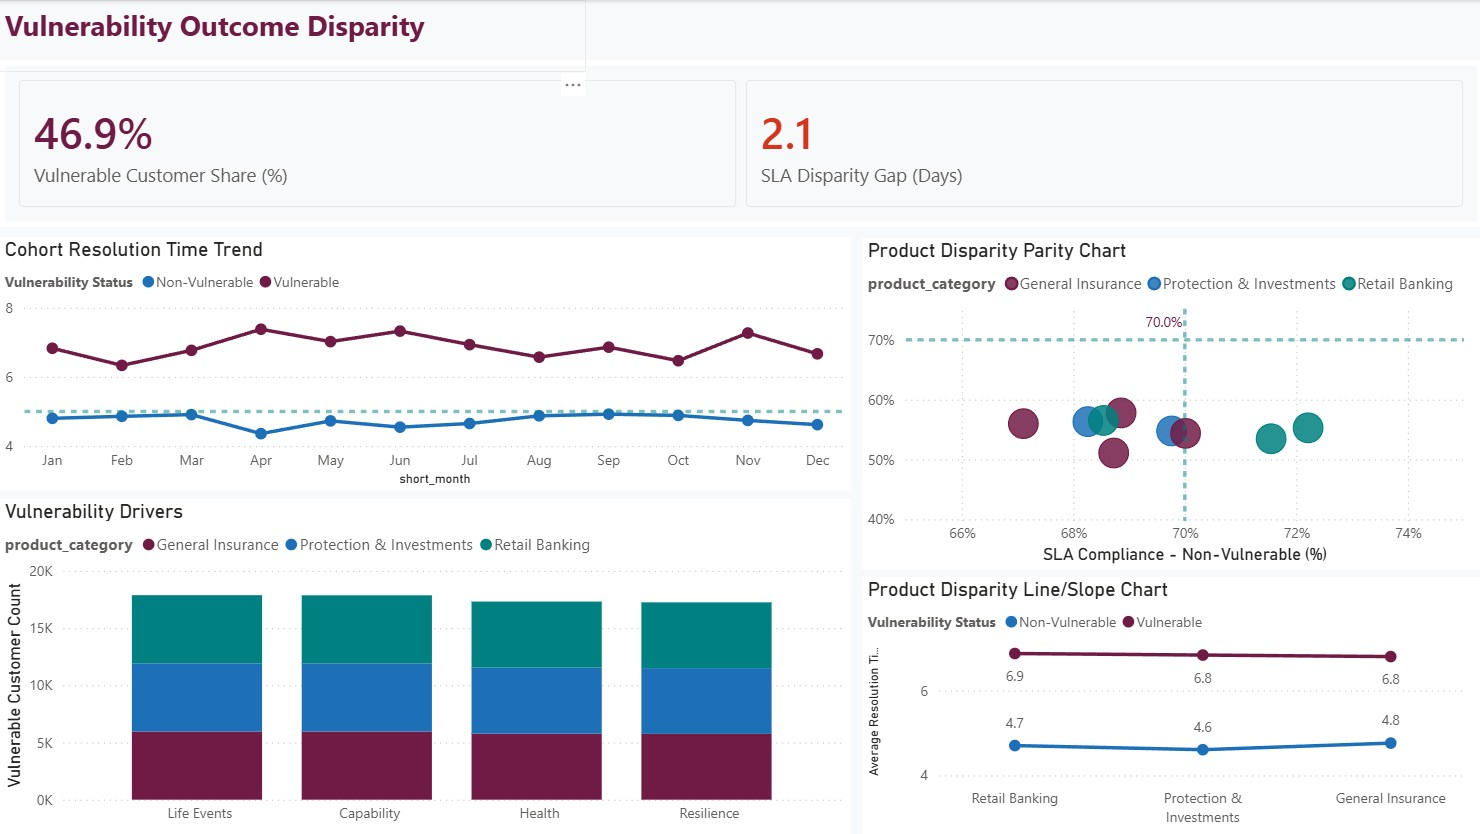

Layout of this report page (visuals, bound fields, positions):
{"tool":"powerbi","page":{"name":"Vulnerability Outcome Disparity","canvas":[1280,720],"ordinal":3},"visuals":[{"type":"cardVisual","fields":{"Data":["_Measures.Vulnerable Customer Share (%)","_Measures.SLA Disparity Gap (Days)"]},"box":[0,51.8,1280,144.4],"z":0},{"type":"lineChart","title":"Product Disparity Line/Slope Chart","fields":{"Category":["dim_product.product_category"],"Y":["_Measures.Average Resolution Time (Days)"],"Series":["dim_customer.Vulnerability Status"]},"box":[744.1,497.9,535.9,222.1],"z":1000},{"type":"scatterChart","title":"Product Disparity Parity Chart","fields":{"X":["_Measures.SLA Compliance - Non-Vulnerable (%)"],"Y":["_Measures.SLA Compliance - Vulnerable (%)"],"Size":["_Measures.Vulnerable Customer Count"],"Category":["dim_product.Product_Name"],"Series":["dim_product.product_category"]},"box":[744.1,205.5,535.9,286],"z":2000},{"type":"columnChart","title":"Vulnerability Drivers","fields":{"Category":["dim_customer.vulnerability_type"],"Y":["_Measures.Vulnerable Customer Count"],"Series":["dim_product.product_category"]},"box":[0,430.4,734.9,289.7],"z":3000},{"type":"lineChart","title":"Cohort Resolution Time Trend","fields":{"Y":["_Measures.Average Resolution Time (Days)"],"Series":["dim_customer.Vulnerability Status"],"Category":["dim_calendar.short_month"]},"box":[0,204.5,734.9,219.3],"z":4000},{"type":"textbox","box":[0,0,506.3,62],"z":5000}]}

Visuals, with their boxes in screenshot pixels (x1, y1, x2, y2), scaled from the page's 1280x720 canvas onto the 1480x834 screenshot:
cardVisual - _Measures.Vulnerable Customer Share (%) x _Measures.SLA Disparity Gap (Days): bbox=[0, 60, 1479, 227]
"Product Disparity Line/Slope Chart" lineChart: bbox=[860, 577, 1479, 833]
"Product Disparity Parity Chart" scatterChart: bbox=[860, 238, 1479, 569]
"Vulnerability Drivers" columnChart: bbox=[0, 499, 850, 833]
"Cohort Resolution Time Trend" lineChart: bbox=[0, 237, 850, 491]
textbox: bbox=[0, 0, 585, 72]
